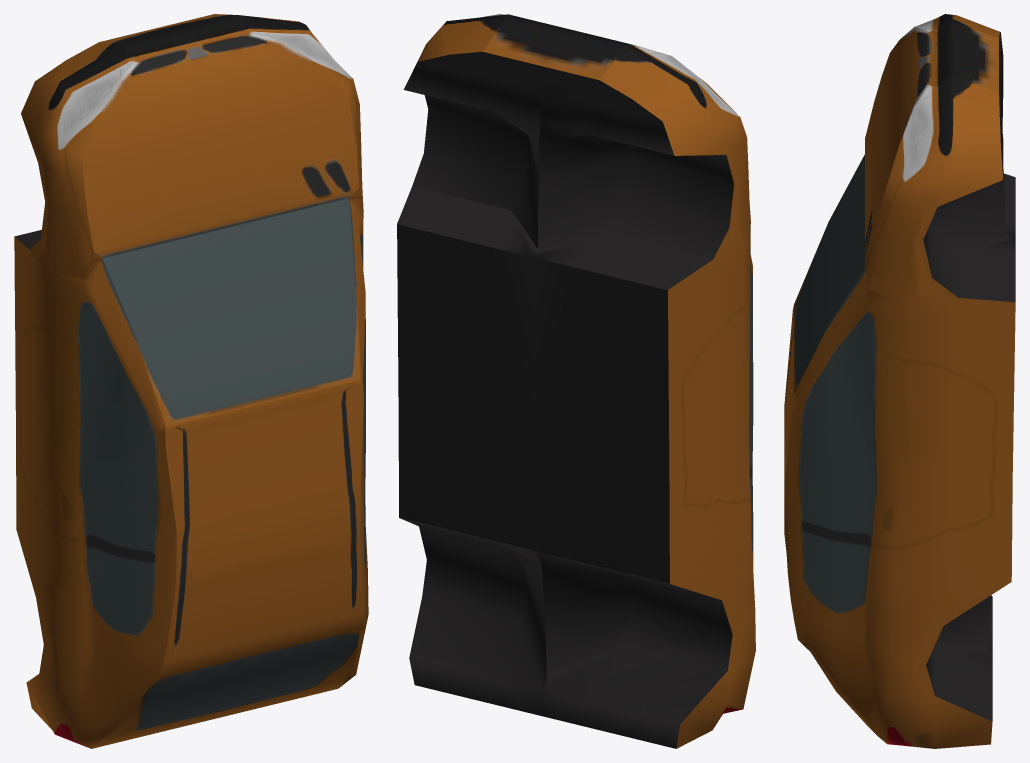
File: kit-08.glb
The picture shows the model from 3 angles, left to right: view 1: azimuth 30°, elevation 25°; view 2: azimuth 150°, elevation 25°; view 3: azimuth 270°, elevation 25°; orthographic projection. The views are drawn at different scales.
Parts seen in each view (by area): view 1: Object_31; view 2: Object_31; view 3: Object_31.
Boxes of the visible parts, x1,y1,x2,y2 form: Object_31: (14, 14, 368, 748); Object_31: (397, 14, 755, 748); Object_31: (784, 14, 1015, 748).
Size of the model in its own units: 2.36 by 4.81 by 1.58.
Materials: 1 (1 with a texture image).
